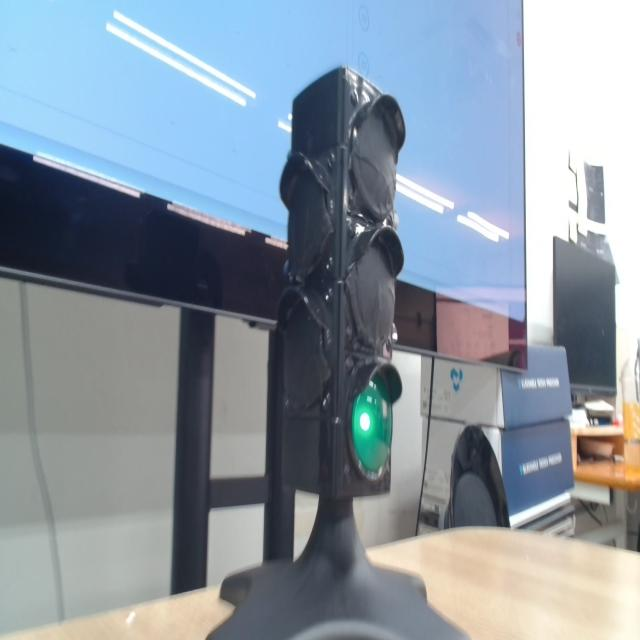green_light: (352, 376, 392, 474)
